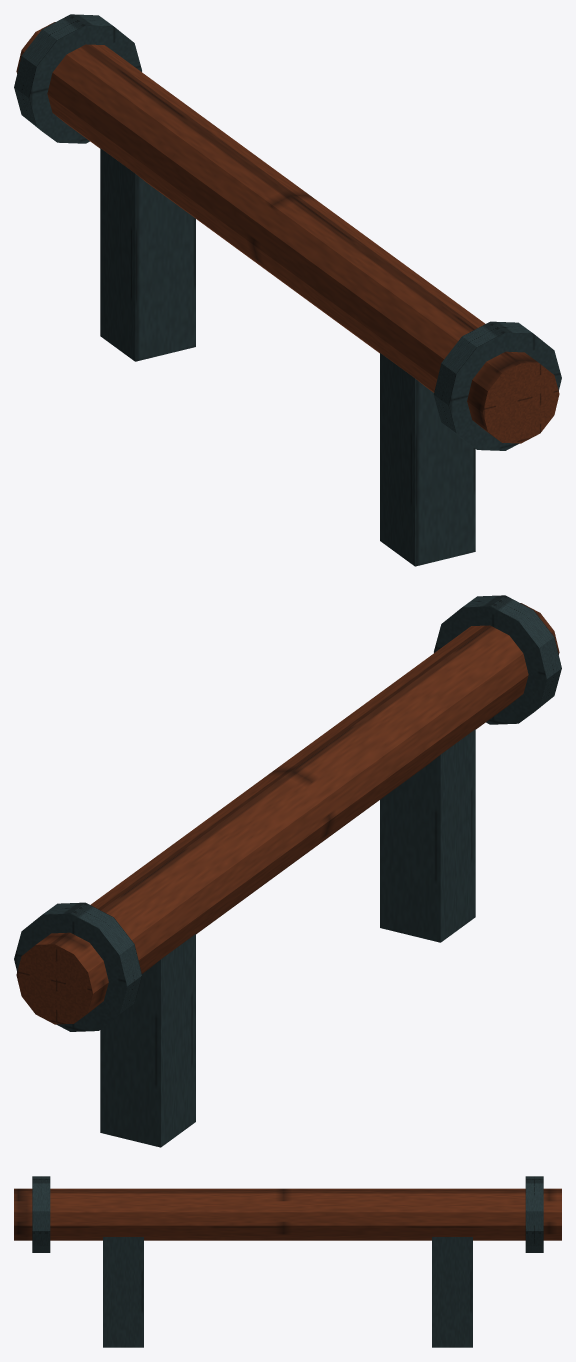
Rendered from pipe.glb.
3 renders of one model, top to bottom at view 1: azimuth 30°, elevation 25°; view 2: azimuth 150°, elevation 25°; view 3: azimuth 270°, elevation 25°, orthographic. The views are drawn at different scales.
Parts seen in each view (by area): view 1: pipe_rust.007, pipe_metal.007; view 2: pipe_rust.007, pipe_metal.007; view 3: pipe_rust.007, pipe_metal.007.
Part boxes in pixels (bbox=[...]): pipe_rust.007: bbox=[16, 22, 559, 443]; pipe_metal.007: bbox=[14, 14, 561, 566]; pipe_rust.007: bbox=[16, 603, 559, 1024]; pipe_metal.007: bbox=[14, 595, 561, 1147]; pipe_rust.007: bbox=[14, 1188, 561, 1240]; pipe_metal.007: bbox=[32, 1176, 543, 1347].
Bounding box in the file's own units: 0.56 × 1.28 × 4.
Materials: 2 (2 with a texture image).
